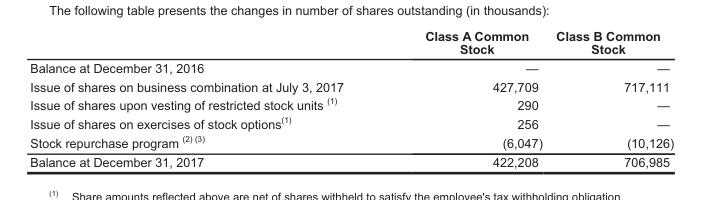table: (29, 28, 673, 168)
table column: (29, 28, 383, 168), (383, 28, 548, 168), (548, 28, 673, 168)
table column header: (29, 28, 673, 57)
table row: (29, 28, 673, 57), (29, 132, 673, 152), (29, 57, 673, 76), (29, 94, 673, 113), (29, 113, 673, 132), (29, 76, 673, 94), (29, 152, 673, 168)
